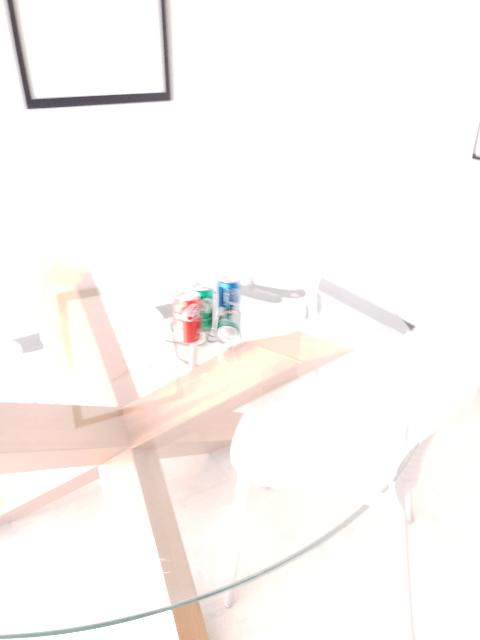coke: (172, 290, 198, 340)
pepsi: (214, 280, 241, 332)
schweppes: (216, 308, 240, 347)
sprite: (197, 282, 213, 334)
